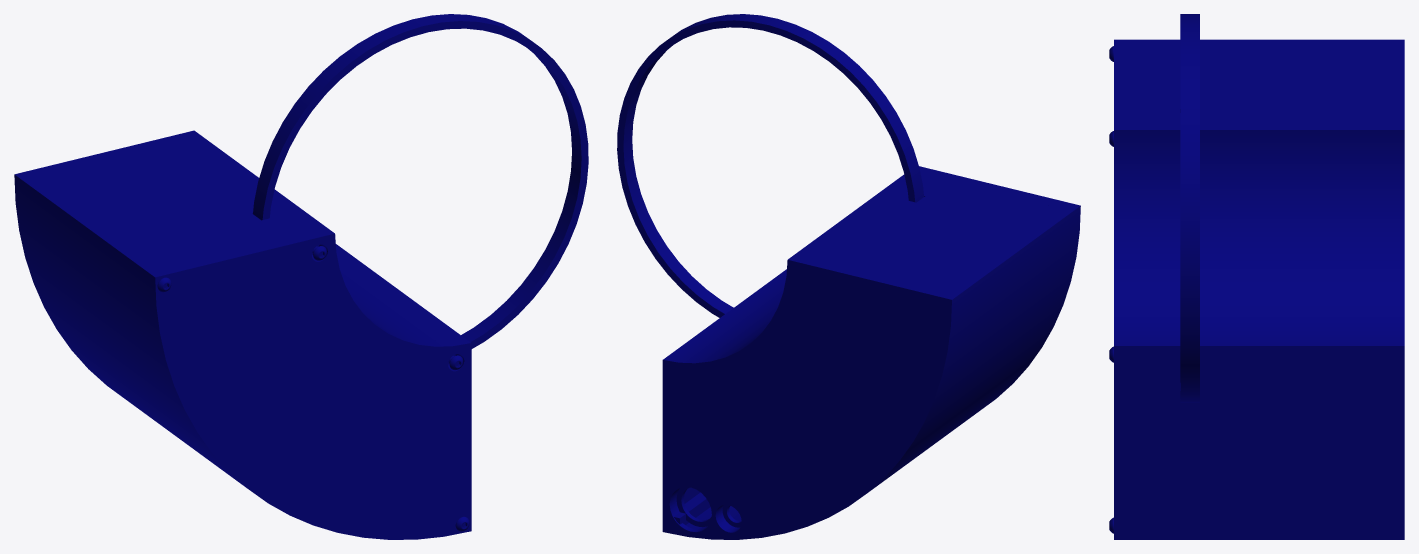
The model's file is kinghacksassembly_purple2.glb.
3 renders of one model, left to right at view 1: azimuth 30°, elevation 25°; view 2: azimuth 150°, elevation 25°; view 3: azimuth 270°, elevation 25°, orthographic. The views are drawn at different scales.
Parts seen in each view (by area): view 1: kinghackspresentlid-1, kinghackspresent-1, kingshackspresentbuckle-1; view 2: kinghackspresent-1, kinghackspresentlid-1, kingshackspresentbuckle-1; view 3: kinghackspresent-1, kinghackspresentlid-1, kingshackspresentbuckle-1.
Boxes of the visible parts, x1,y1,x2,y2 form: kinghackspresentlid-1: (36,227,471,539); kinghackspresent-1: (14,130,462,387); kingshackspresentbuckle-1: (253,14,588,348); kinghackspresent-1: (662,174,1072,539); kinghackspresentlid-1: (784,166,1080,489); kingshackspresentbuckle-1: (617,14,923,317); kinghackspresent-1: (1132,39,1404,539); kinghackspresentlid-1: (1114,39,1180,539); kingshackspresentbuckle-1: (1180,14,1199,402).
Size of the model in its own units: 0.1962 by 0.1957 by 0.1045.
